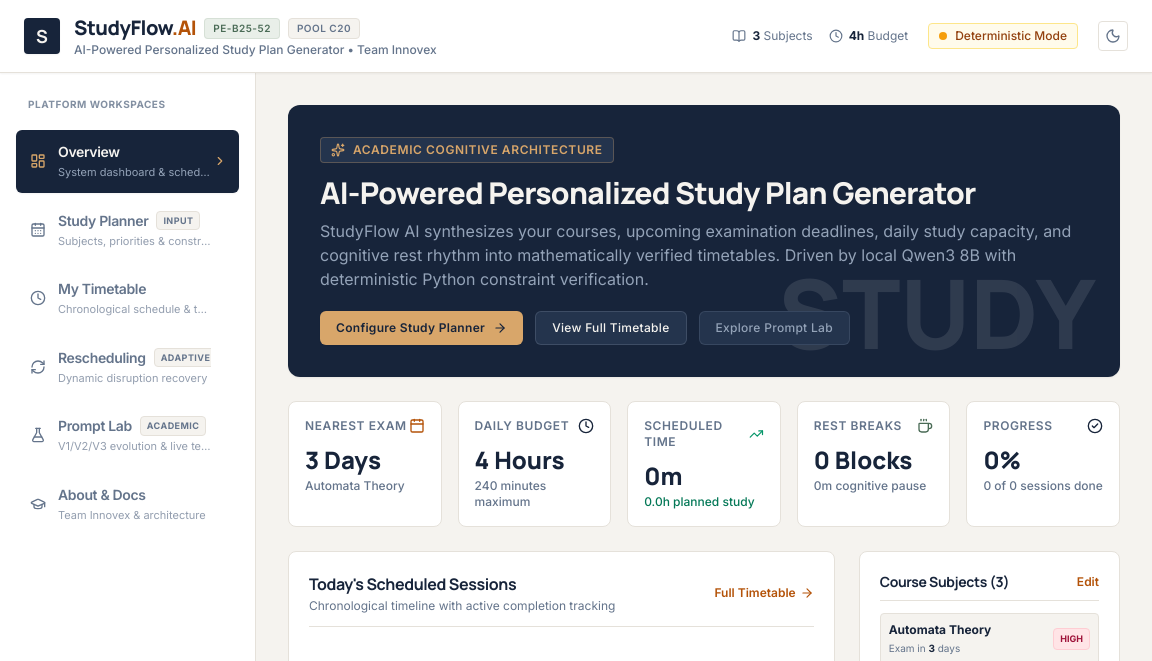
Test: StudyFlow AI Application Workspaces Navigation › switches to Rescheduling workspace on navigation click
Click the text "Rescheduling".
click(102, 358)  # box [58, 348, 146, 368]
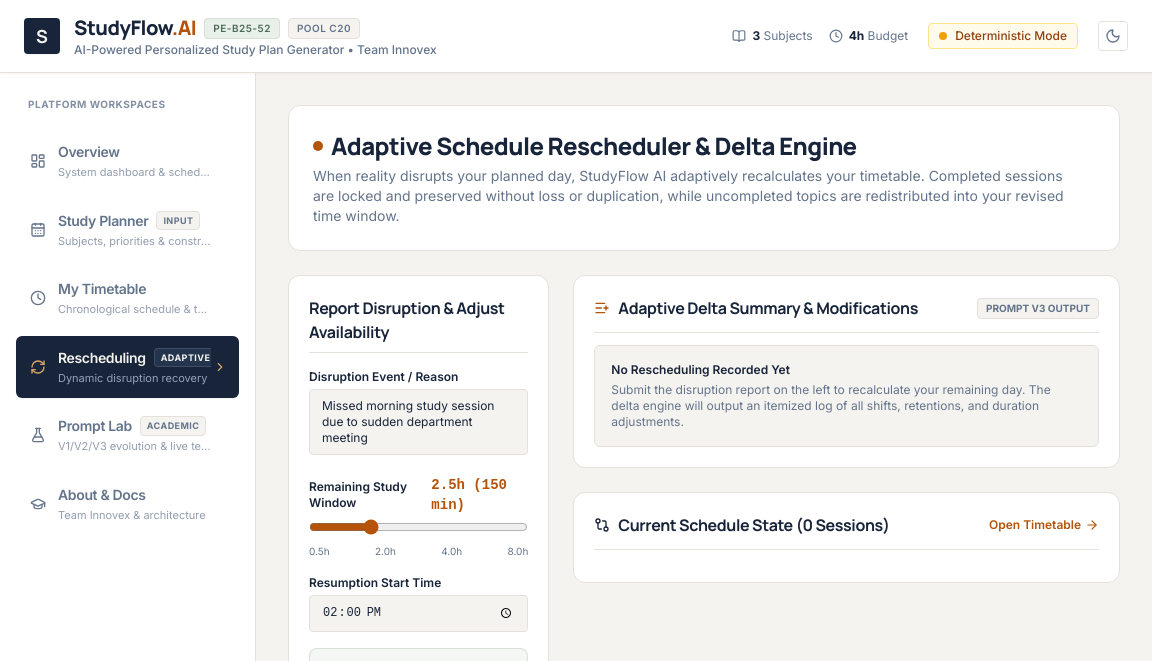
Check: the heading "Adaptive Schedule Rescheduler & Delta Engine" is shown, box [331, 130, 857, 162]
Check: the heading "Report Disruption & Adjust Availability" is shown, box [309, 296, 528, 353]
